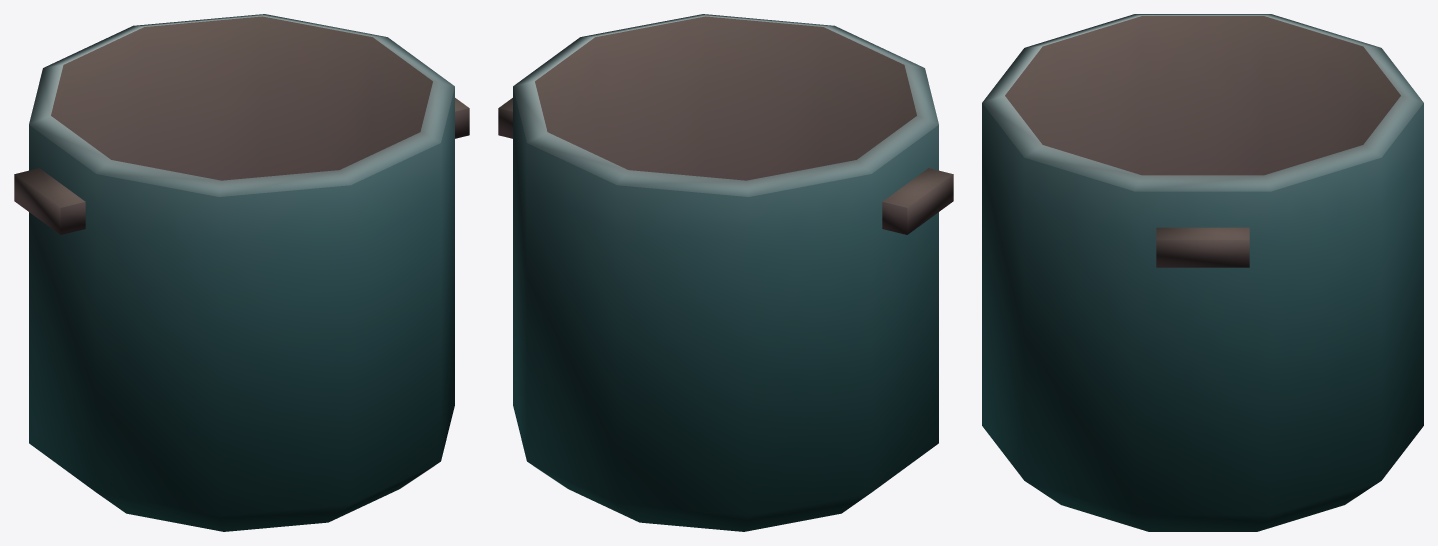
The model's file is TSP_Pot_01B.fbx.
3 views of the same model, side by side, from view 1: azimuth 30°, elevation 25°; view 2: azimuth 150°, elevation 25°; view 3: azimuth 270°, elevation 25° (orthographic).
Visible parts, largest first — view 1: TSP_Pot_01B; view 2: TSP_Pot_01B; view 3: TSP_Pot_01B.
Boxes of the visible parts, bbox=[...] form: TSP_Pot_01B: bbox=[14, 14, 469, 531]; TSP_Pot_01B: bbox=[498, 14, 953, 531]; TSP_Pot_01B: bbox=[982, 14, 1423, 531].
Bounding box in the file's own units: 0.3336 × 0.2812 × 0.3078.
